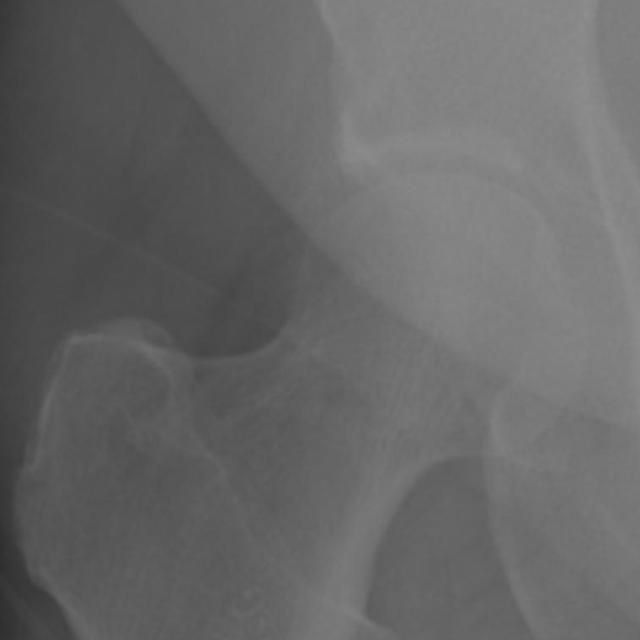Fitted_femural_head: (294, 170, 432, 294)
